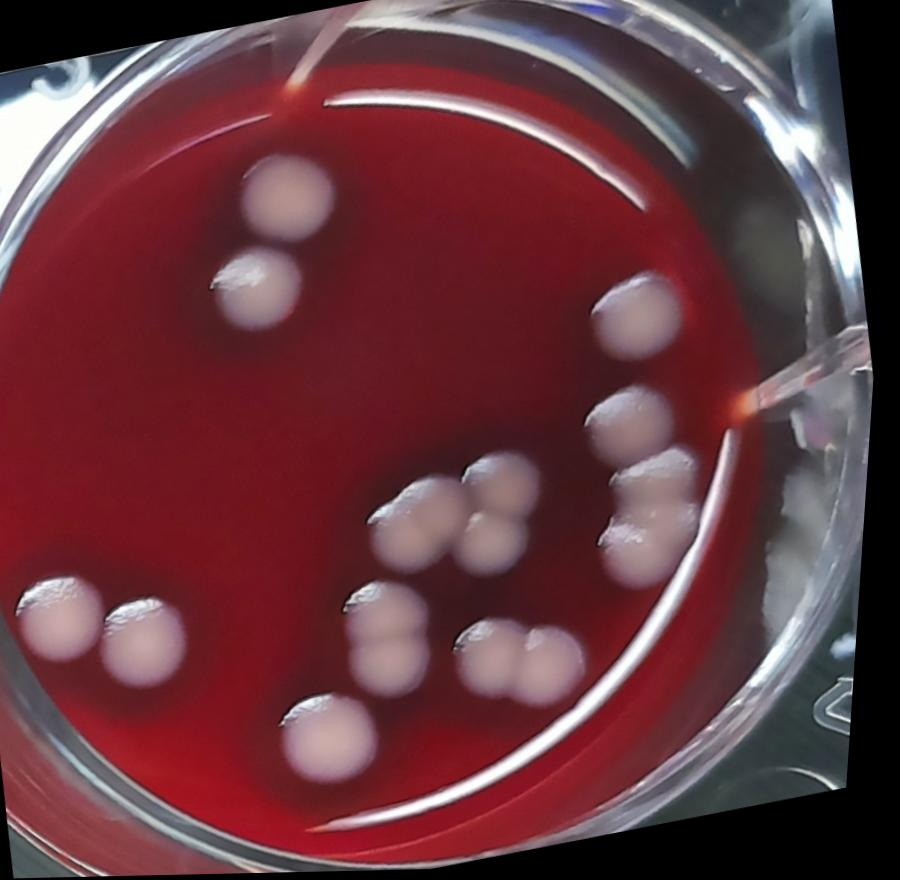bcereus: (578, 448, 732, 605), (261, 665, 411, 817), (327, 558, 463, 725), (354, 442, 489, 586), (571, 256, 703, 380), (224, 134, 352, 259), (8, 559, 128, 678), (92, 584, 209, 704), (199, 238, 321, 352), (573, 375, 696, 476), (442, 601, 550, 710), (459, 434, 563, 537), (510, 617, 613, 721), (445, 502, 548, 588)
